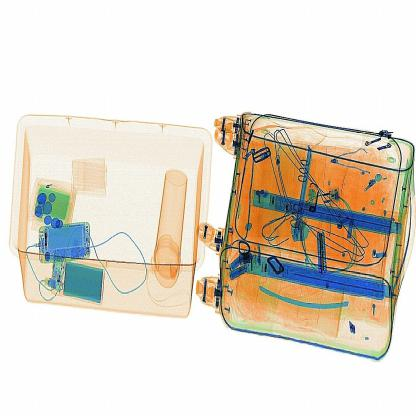scissors: (308, 224, 340, 282)
